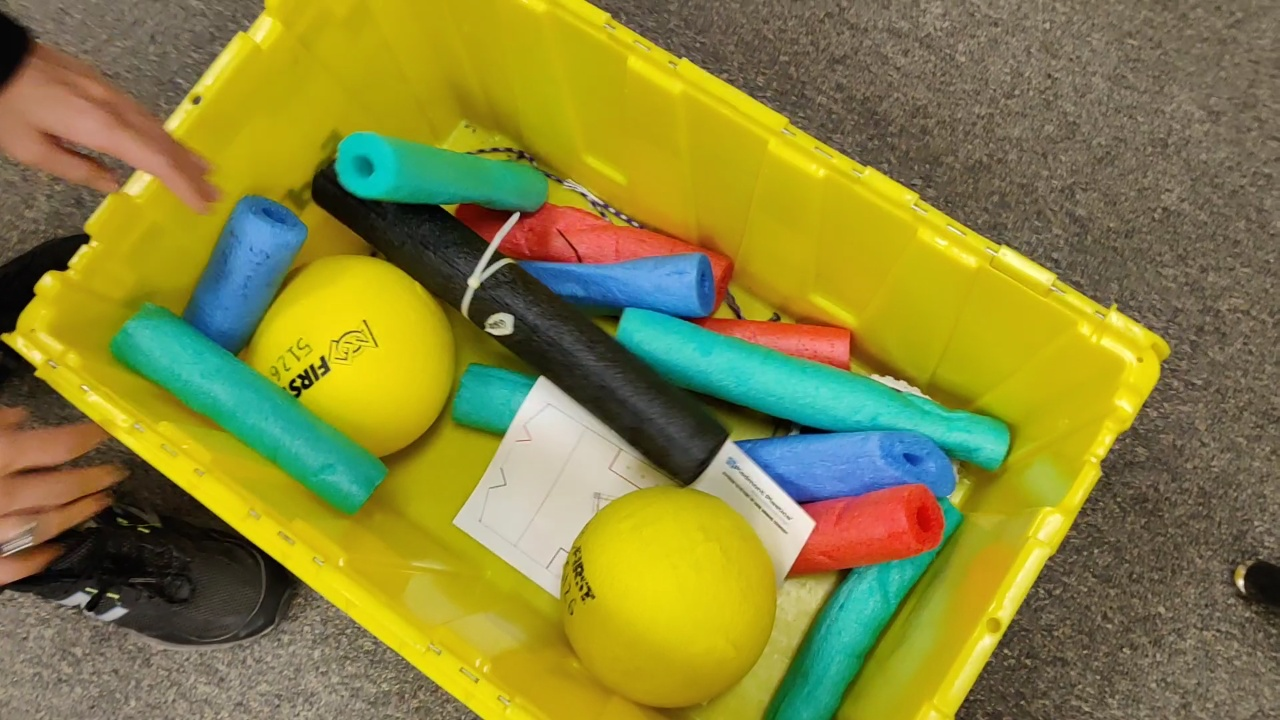Ball: (562, 484, 777, 705), (243, 256, 455, 464)
